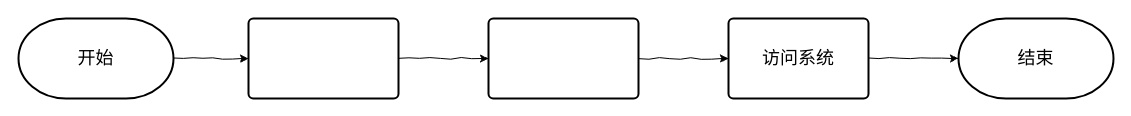
Some shapes in this 1131 by 116 pixel diagram are drawn without their labels. Each missing label, with the centre of its shape:
安装: point 563,58
环境准备: point 323,58
